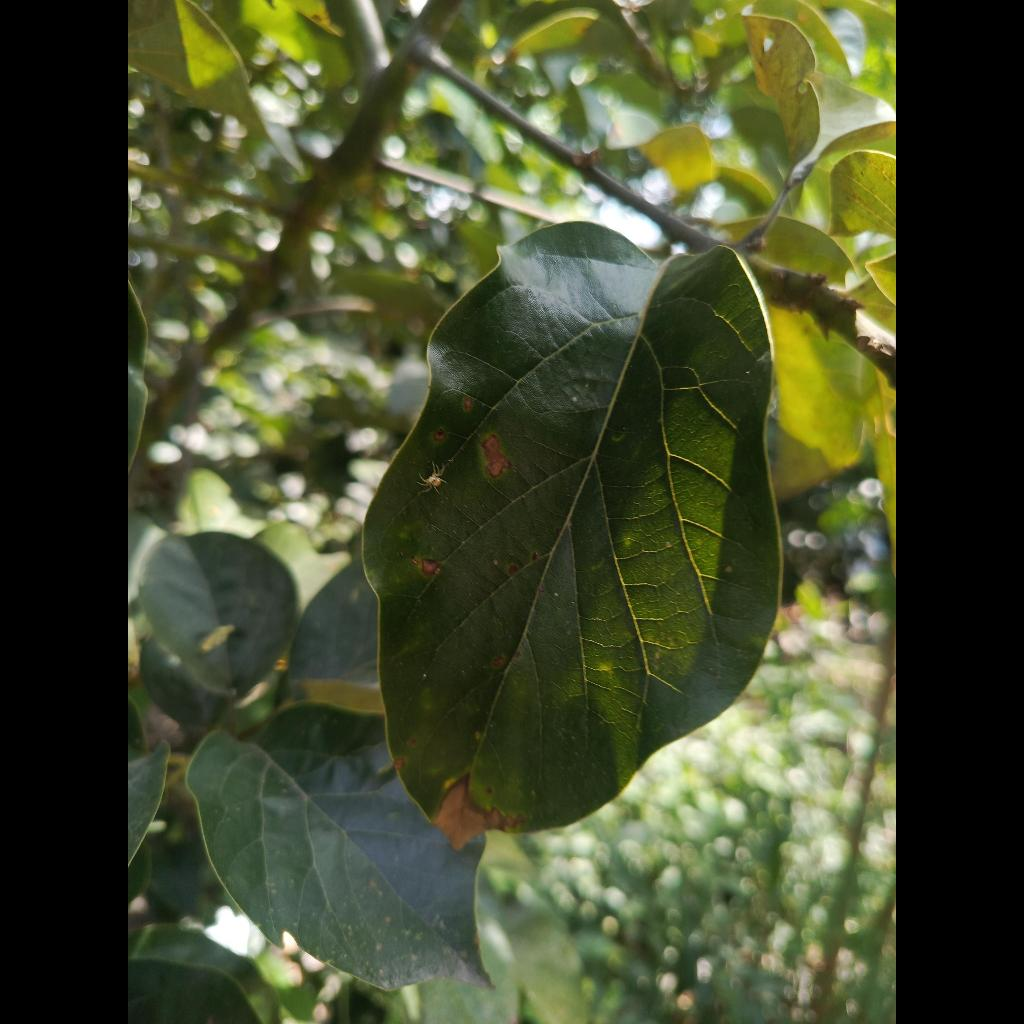Anthracnose: (364, 223, 781, 835)
